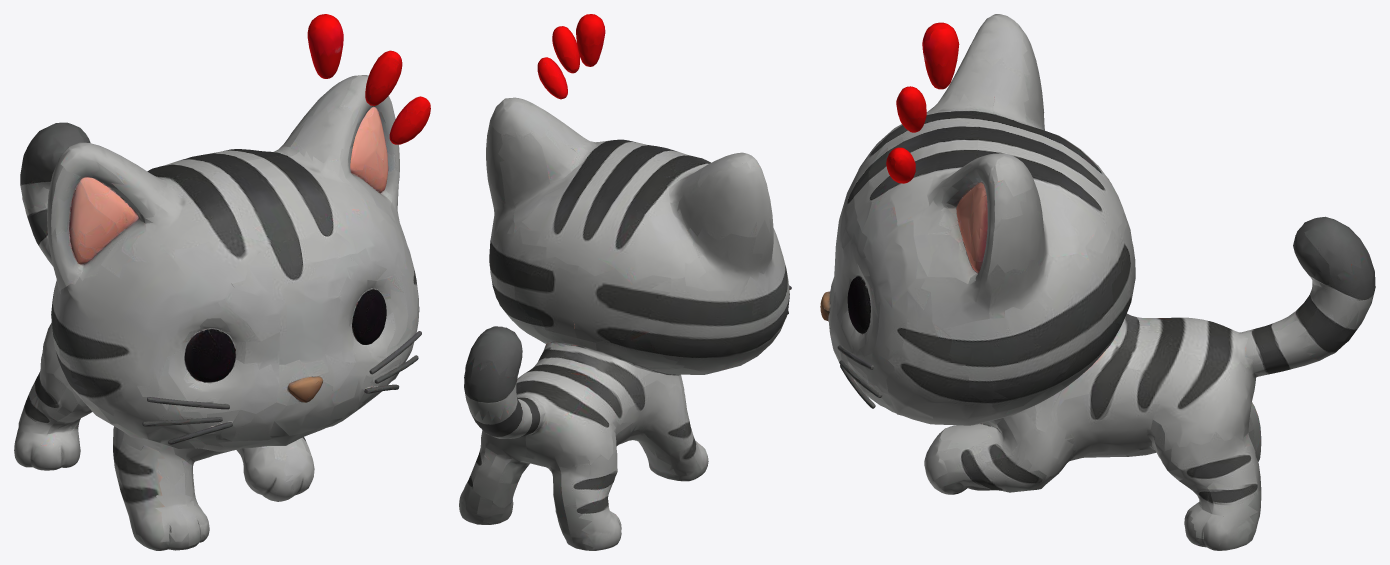
The model's file is conk.glb.
The picture shows the model from 3 angles, left to right: view 1: azimuth 30°, elevation 25°; view 2: azimuth 150°, elevation 25°; view 3: azimuth 270°, elevation 25°; orthographic projection. The views are drawn at different scales.
Parts seen in each view (by area): view 1: Mesh_0; view 2: Mesh_0; view 3: Mesh_0.
Part boxes in pixels (bbox=[...]): Mesh_0: bbox=[14, 14, 430, 550]; Mesh_0: bbox=[459, 14, 791, 550]; Mesh_0: bbox=[820, 14, 1375, 550].
Size of the model in its own units: 1.36 by 1.9 by 1.84.
1 material, 1 textured.
